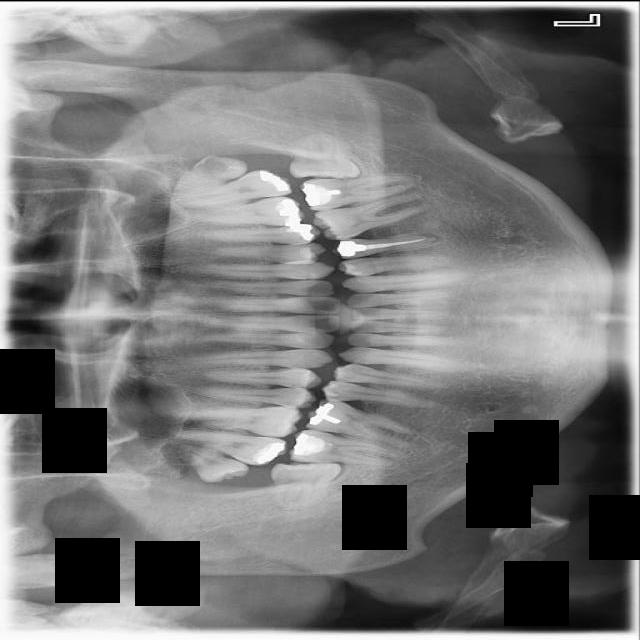3M ESPE Implant: (174, 440, 251, 494)
52: (231, 424, 292, 477), (237, 159, 297, 207), (285, 424, 342, 471), (305, 395, 364, 437), (299, 170, 352, 215), (256, 195, 304, 226), (276, 239, 326, 266), (270, 222, 320, 244), (194, 153, 236, 177), (331, 236, 370, 259)
73: (366, 230, 431, 254), (605, 15, 620, 24)
BioHorizons Implant: (168, 164, 293, 213)
BioLife Implant: (163, 142, 251, 201)
Biomet 3i Implant: (288, 130, 363, 181)
Blue Sky Bio Implant: (299, 167, 417, 212)
Caries: (159, 423, 288, 468)
Implant: (288, 427, 402, 467)
Keystone Dental Implant: (268, 456, 346, 512)
